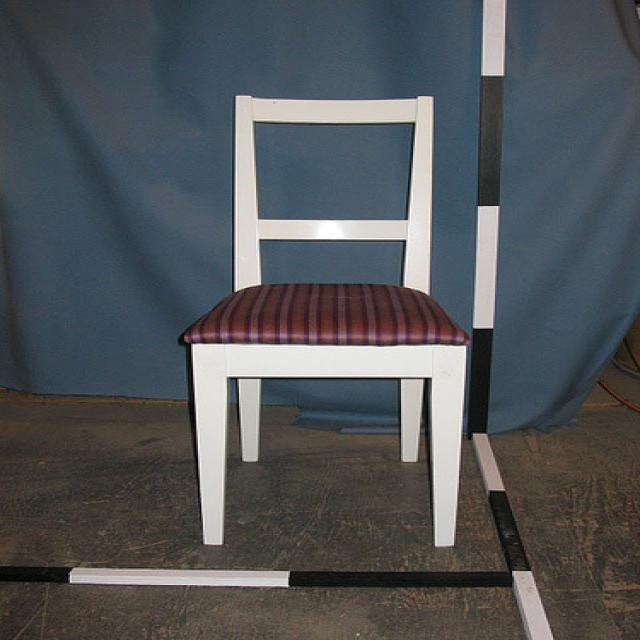chair: (177, 92, 475, 549)
